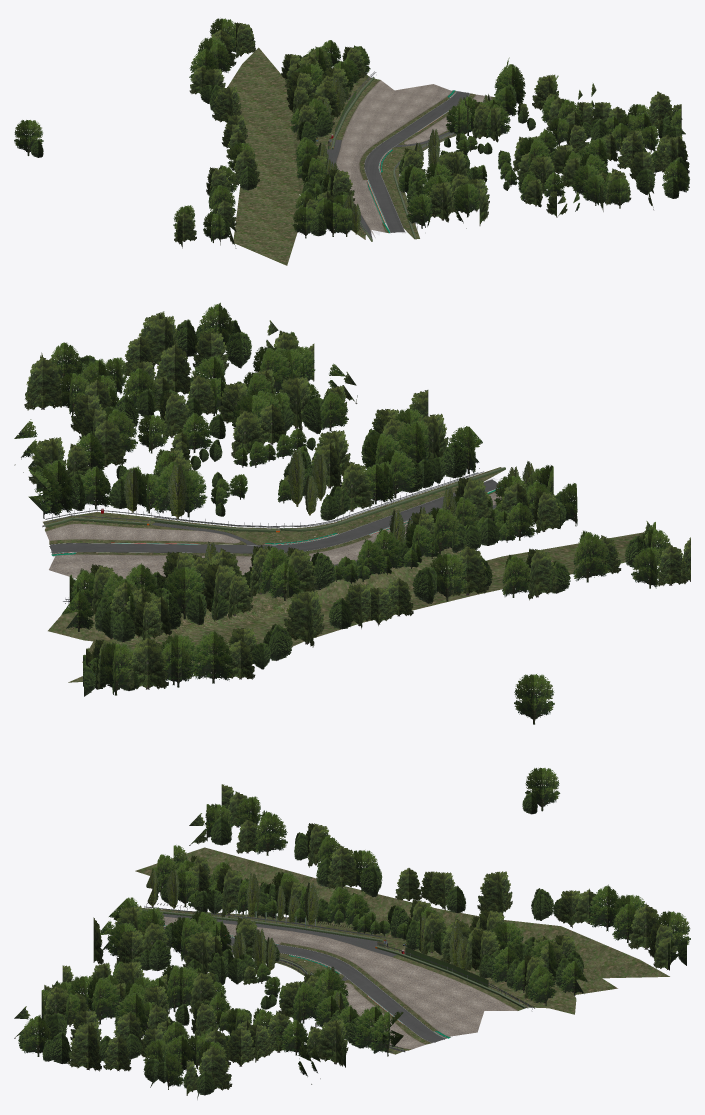
3 renders of one model, top to bottom at view 1: azimuth 30°, elevation 25°; view 2: azimuth 150°, elevation 25°; view 3: azimuth 270°, elevation 25°, orthographic. The views are drawn at different scales.
Parts seen in each view (by area): view 1: tile_t03; view 2: tile_t03; view 3: tile_t03.
Part boxes in pixels (<box>): tile_t03: <box>14,18,689,265</box>; tile_t03: <box>14,302,690,724</box>; tile_t03: <box>14,767,690,1099</box>.
Bounding box in the file's own units: 414 × 40.71 × 391.
27 materials, 27 textured.
